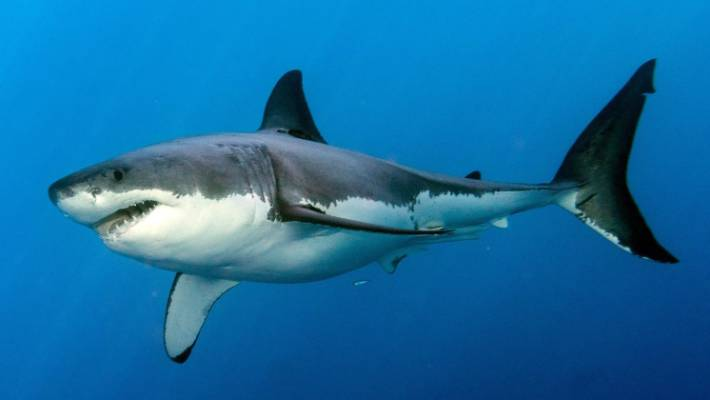shark: (40, 63, 688, 337)
